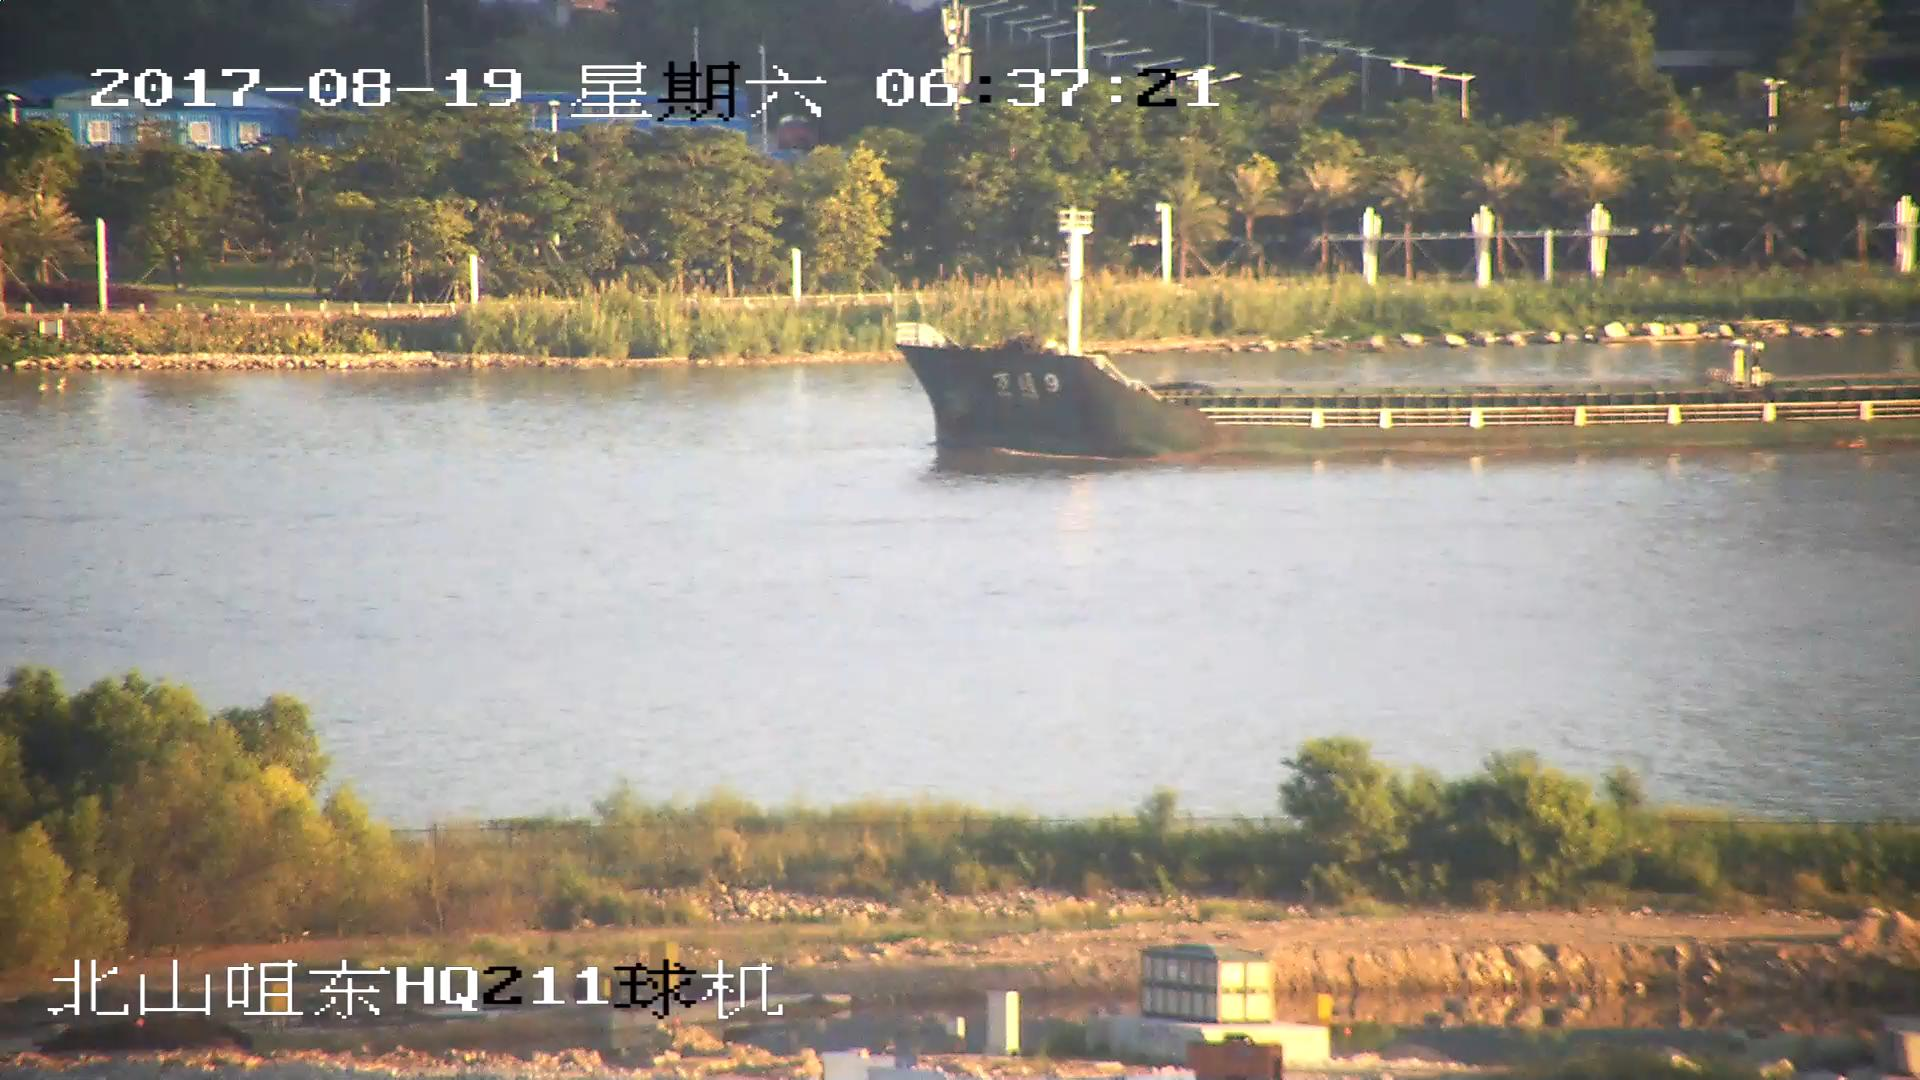general cargo ship: (891, 218, 1919, 455)
